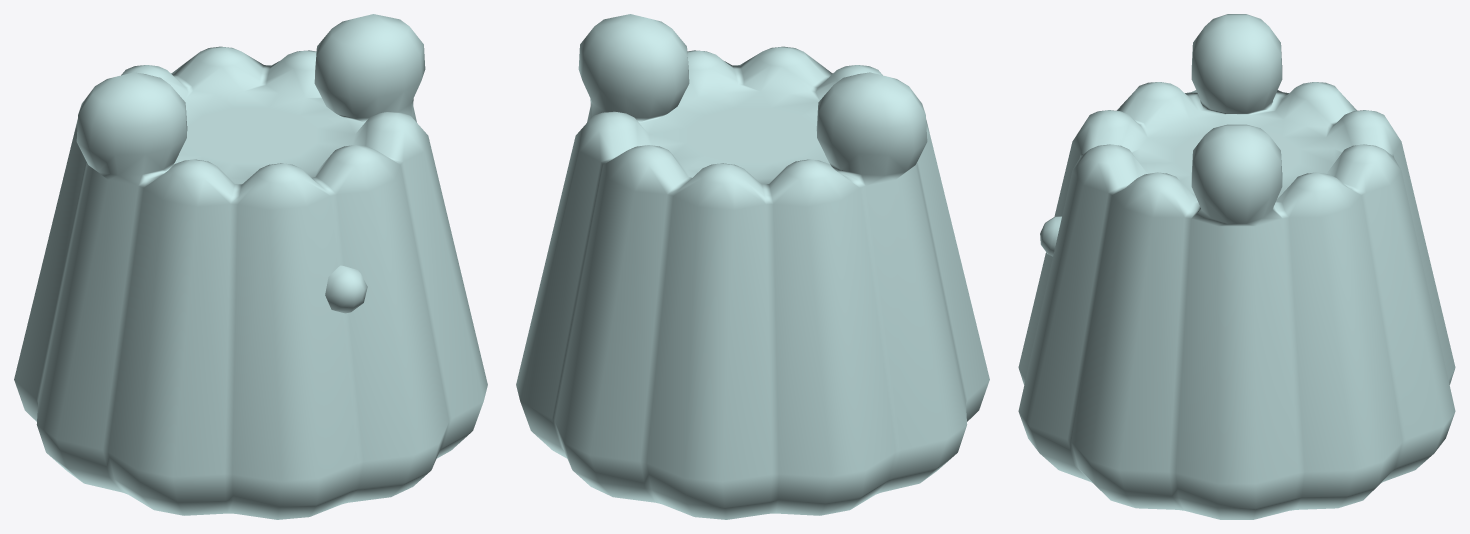
The model's file is PROPS_GOODS_CANNELE_MODEL.fbx.
3 views of the same model, side by side, from view 1: azimuth 30°, elevation 25°; view 2: azimuth 150°, elevation 25°; view 3: azimuth 270°, elevation 25° (orthographic). The views are drawn at different scales.
Visible parts, largest first — view 1: PROPS_GOODS_CANNELE_MODEL_low; view 2: PROPS_GOODS_CANNELE_MODEL_low; view 3: PROPS_GOODS_CANNELE_MODEL_low.
Boxes of the visible parts, x1,y1,x2,y2 form: PROPS_GOODS_CANNELE_MODEL_low: [14, 14, 487, 519]; PROPS_GOODS_CANNELE_MODEL_low: [516, 14, 989, 519]; PROPS_GOODS_CANNELE_MODEL_low: [1018, 14, 1455, 519].
Bounding box in the file's own units: 9.07 × 8.16 × 8.88.
